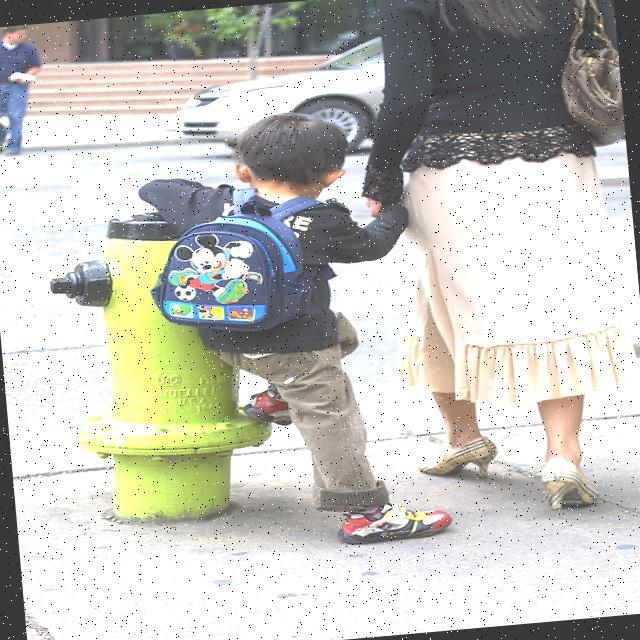fire_hydrant: (40, 172, 276, 528)
